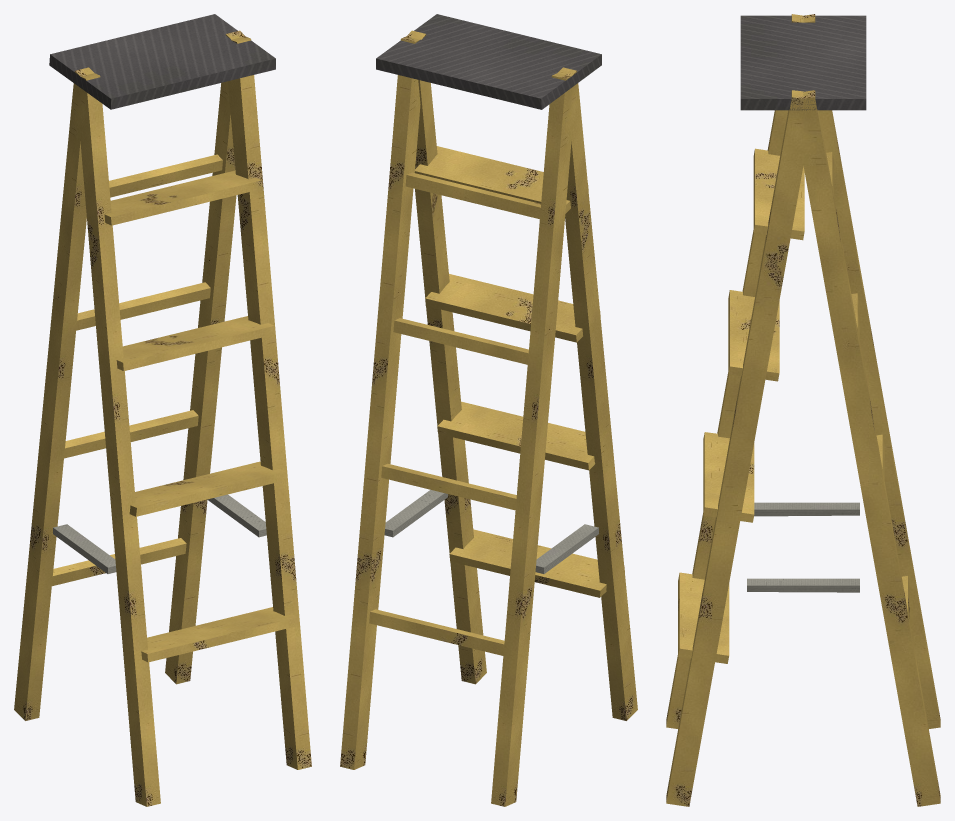
Rendered from ladder_v2.glb.
3 views of the same model, side by side, from view 1: azimuth 30°, elevation 25°; view 2: azimuth 150°, elevation 25°; view 3: azimuth 270°, elevation 25° (orthographic). The views are drawn at different scales.
Parts seen in each view (by area): view 1: Variant_ladder_2; view 2: Variant_ladder_2; view 3: Variant_ladder_2.
Boxes of the visible parts, box(x1,y1,x2,y2) form: Variant_ladder_2: box(14, 14, 311, 806); Variant_ladder_2: box(340, 14, 637, 806); Variant_ladder_2: box(666, 14, 940, 806).
Size of the model in its own units: 0.4721 by 1.87 by 0.6553.
3 materials, 3 textured.
